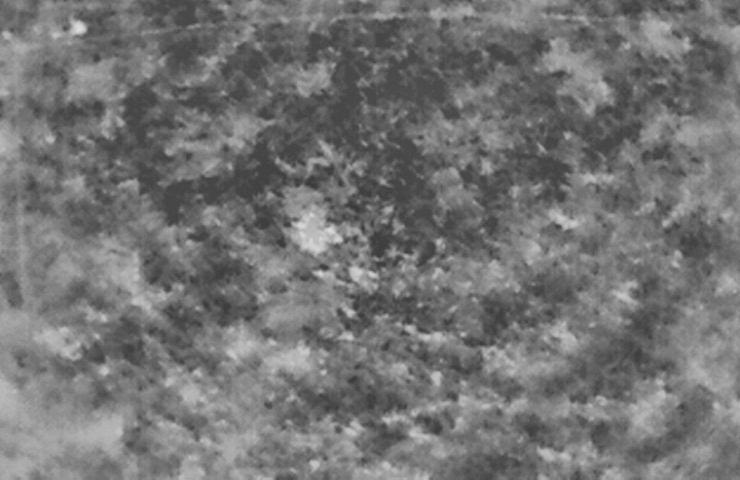landmines: (291, 210, 343, 256)
